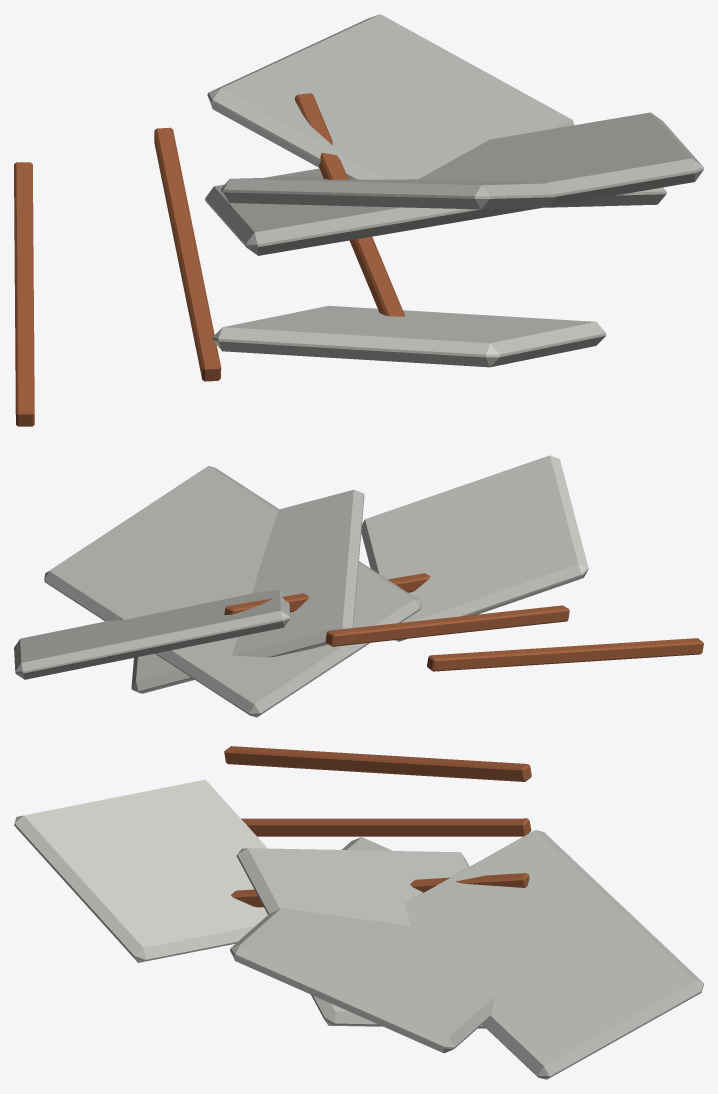
Rendered from Debris_Cluster_2.glb.
3 views of the same model, one above another, from view 1: azimuth 30°, elevation 25°; view 2: azimuth 150°, elevation 25°; view 3: azimuth 270°, elevation 25° (orthographic). The views are drawn at different scales.
Visible parts, largest first — view 1: Debris_Cluster_2; view 2: Debris_Cluster_2; view 3: Debris_Cluster_2.
Part boxes in pixels (x1,y1,x2,y2): Debris_Cluster_2: (14,14,703,426); Debris_Cluster_2: (14,455,703,717); Debris_Cluster_2: (14,746,703,1079).
Size of the model in its own units: 1.67 by 0.3578 by 1.61.
